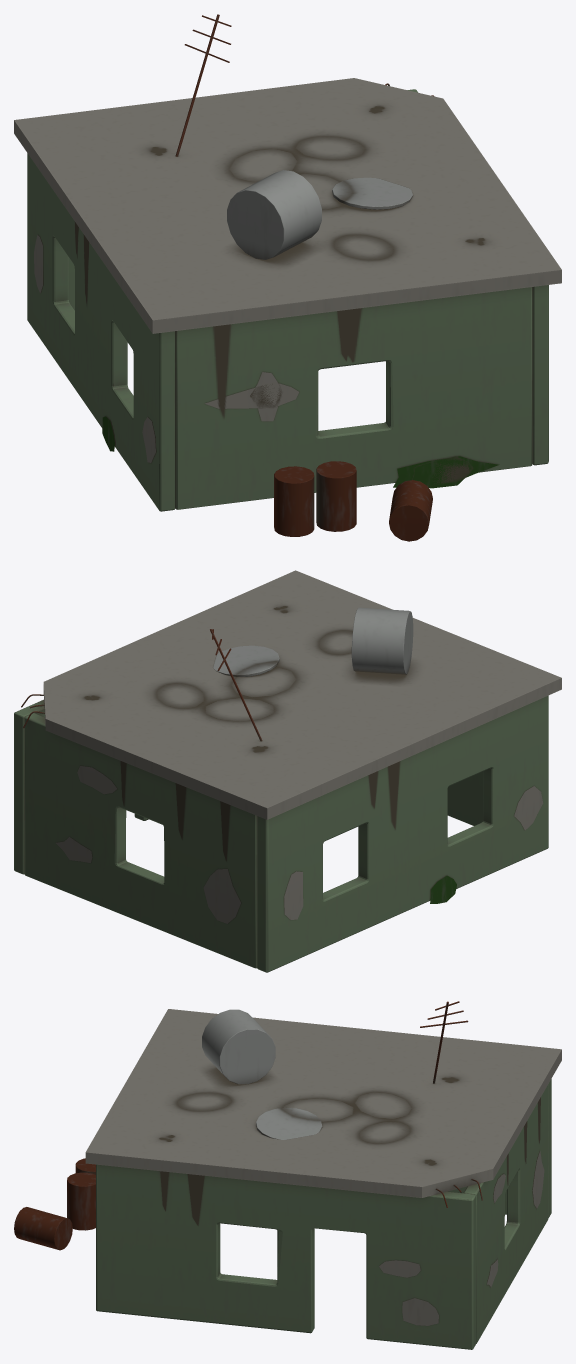
File: casa_g.glb
3 views of the same model, one above another, from view 1: azimuth 30°, elevation 25°; view 2: azimuth 150°, elevation 25°; view 3: azimuth 270°, elevation 25° (orthographic). The views are drawn at different scales.
Parts seen in each view (by area): view 1: g_casa_g; view 2: g_casa_g; view 3: g_casa_g.
Part boxes in pixels (x1,y1,x2,y2): g_casa_g: (14, 14, 561, 541); g_casa_g: (14, 570, 561, 972); g_casa_g: (14, 1001, 561, 1349).
Size of the model in its own units: 7.78 by 5.39 by 9.87.
1 material, 1 textured.
